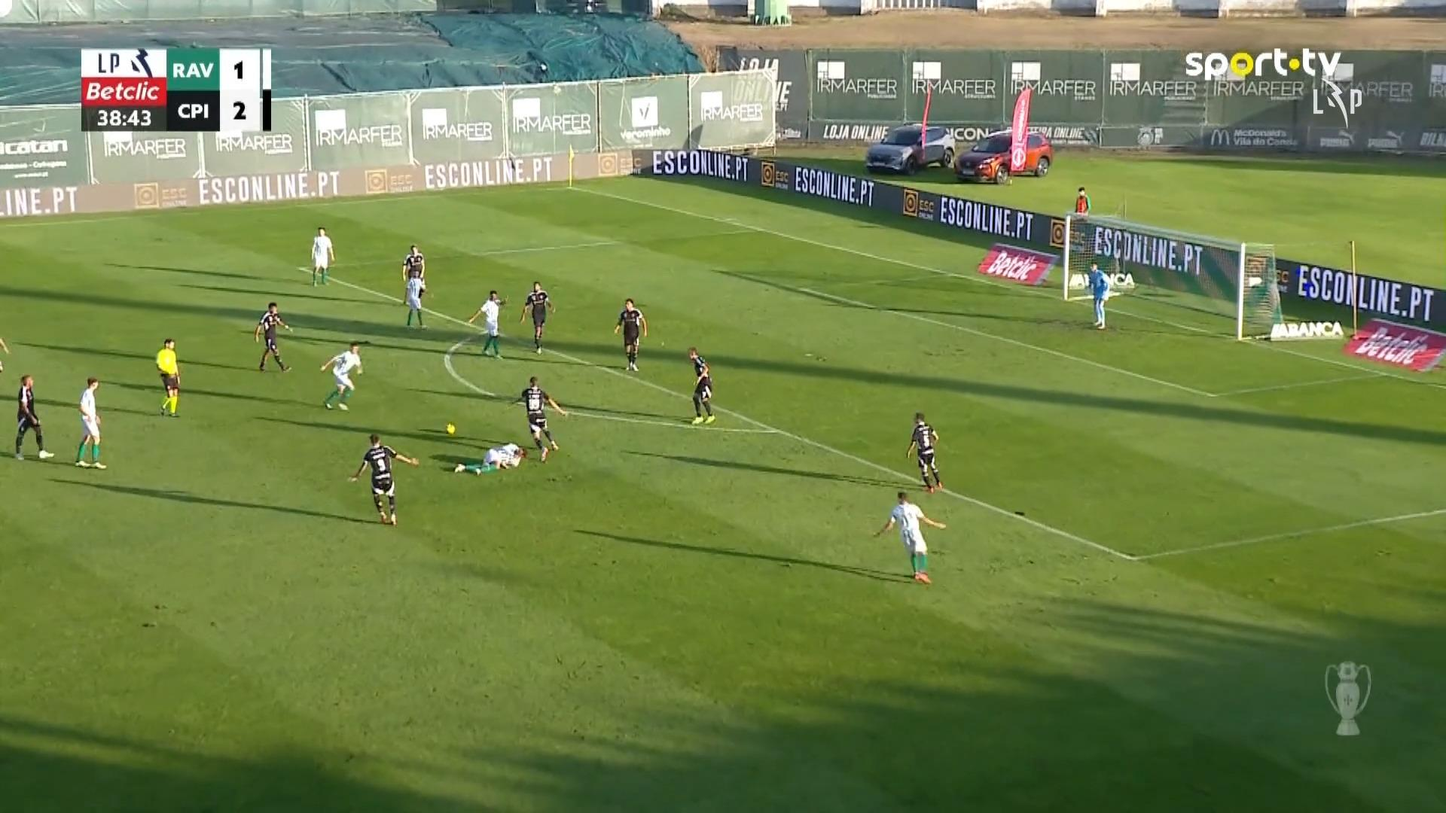ball: (446, 422, 455, 434)
goalkeeper: (1086, 261, 1110, 328)
player: (871, 490, 946, 583), (349, 432, 419, 526), (519, 376, 568, 462), (13, 373, 53, 460), (319, 340, 364, 411), (905, 411, 943, 493), (74, 376, 107, 469), (466, 289, 508, 359), (253, 301, 292, 372), (519, 280, 554, 355), (612, 297, 646, 372), (453, 442, 526, 475), (687, 347, 715, 425), (401, 243, 426, 303), (310, 226, 334, 286), (403, 269, 426, 328), (0, 335, 10, 373)
referee: (154, 336, 181, 416)
